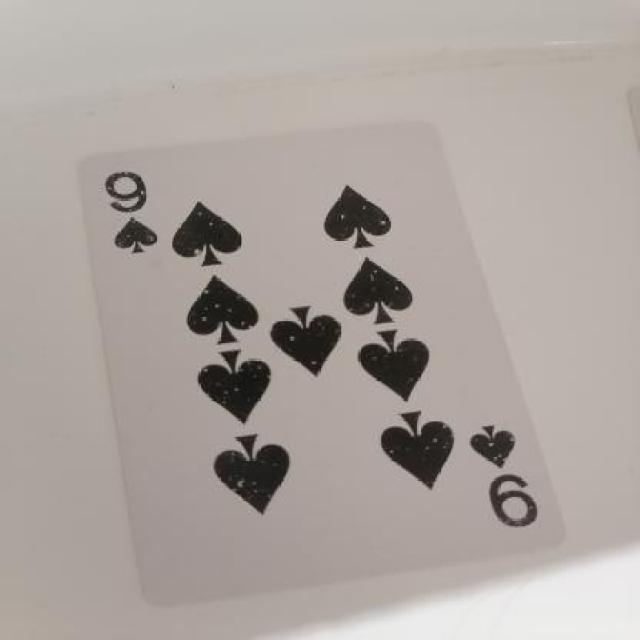9S: (456, 427, 562, 527), (94, 158, 166, 270)
